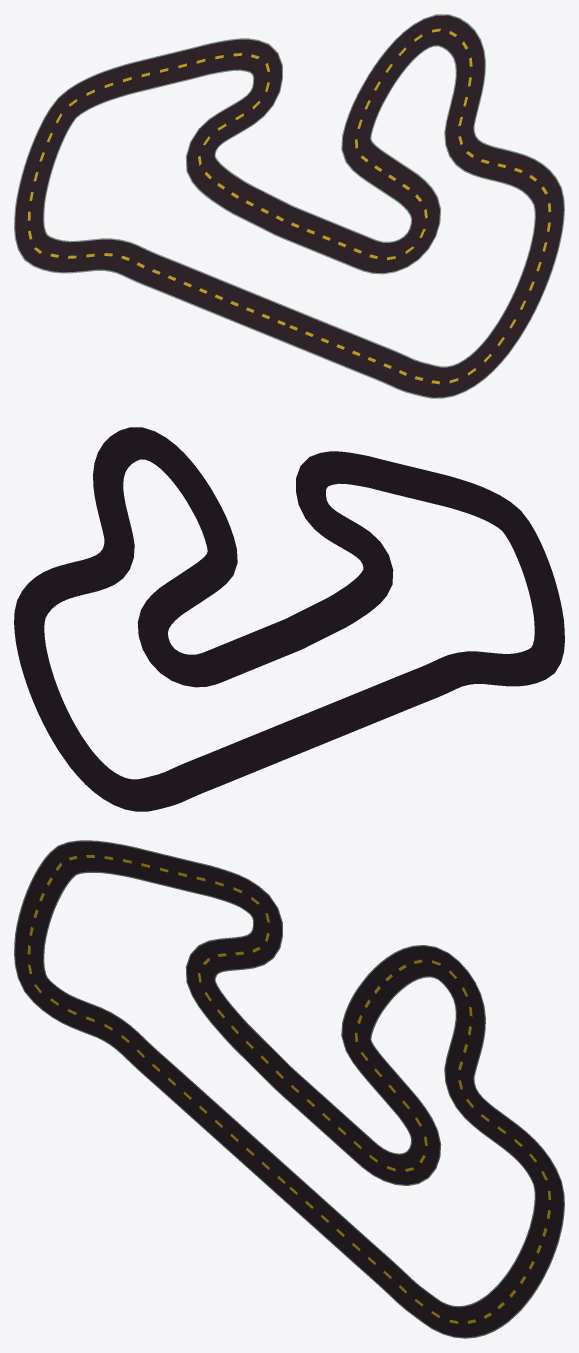
Rendered from track.obj.
3 renders of one model, top to bottom at view 1: azimuth 30°, elevation 25°; view 2: azimuth 150°, elevation 25°; view 3: azimuth 330°, elevation 25°, orthographic.
Bounding box in the file's own units: 19.43 × 13.91 × 0.002.
